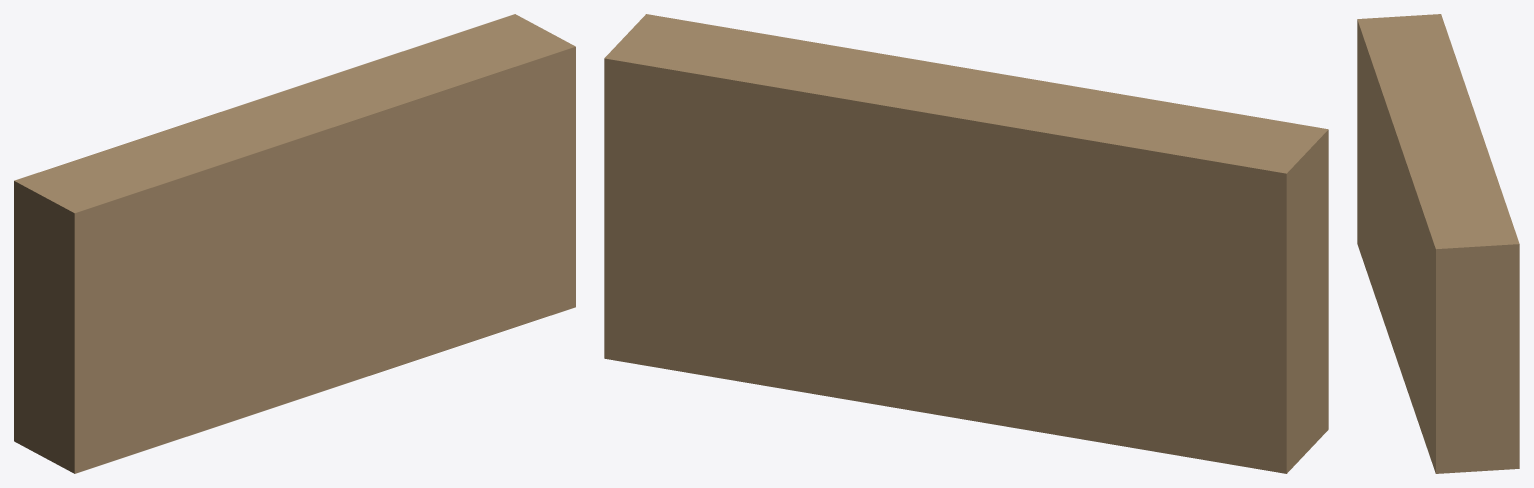
Rendered from SM_L1_Rooms_Solid_7b76941e8e_0.fbx.
3 views of the same model, side by side, from view 1: azimuth 30°, elevation 25°; view 2: azimuth 150°, elevation 25°; view 3: azimuth 270°, elevation 25° (orthographic). The views are drawn at different scales.
Visible parts, largest first — view 1: SM_L1_Rooms_Solid_7b76941e8e_0; view 2: SM_L1_Rooms_Solid_7b76941e8e_0; view 3: SM_L1_Rooms_Solid_7b76941e8e_0.
Part boxes in pixels (x1,y1,x2,y2): SM_L1_Rooms_Solid_7b76941e8e_0: (14, 14, 575, 473); SM_L1_Rooms_Solid_7b76941e8e_0: (604, 14, 1328, 473); SM_L1_Rooms_Solid_7b76941e8e_0: (1357, 14, 1519, 473).
Size of the model in its own units: 0.92 by 0.2685 by 0.41.
